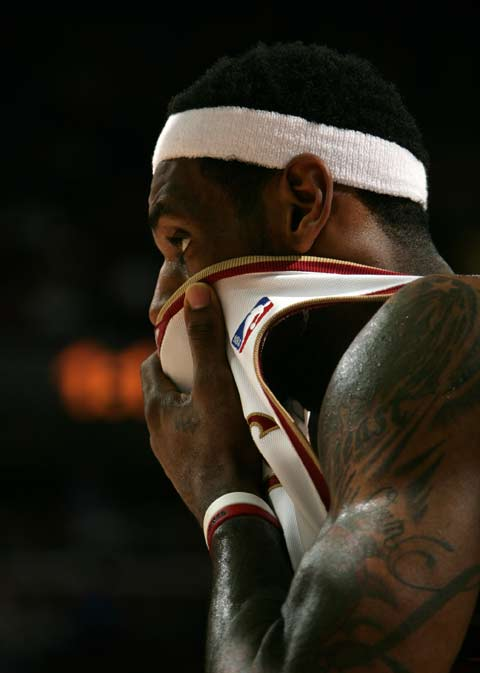face: (150, 133, 287, 415)
